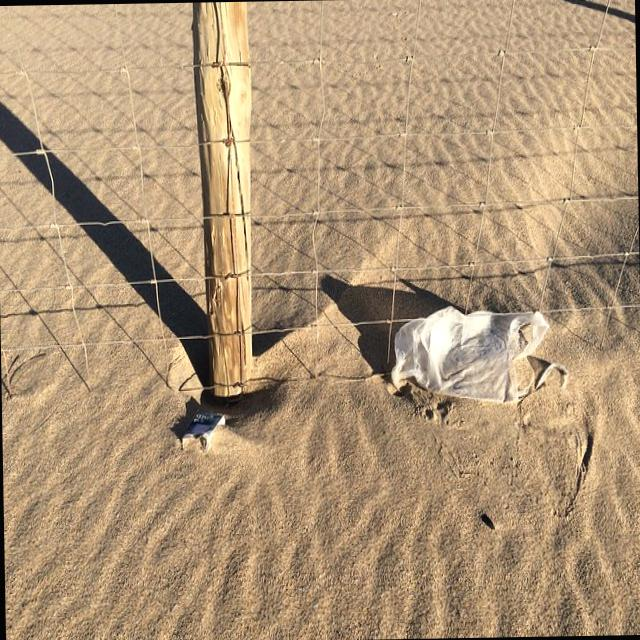Recycle: (182, 408, 229, 458)
Trash: (389, 301, 569, 408)
